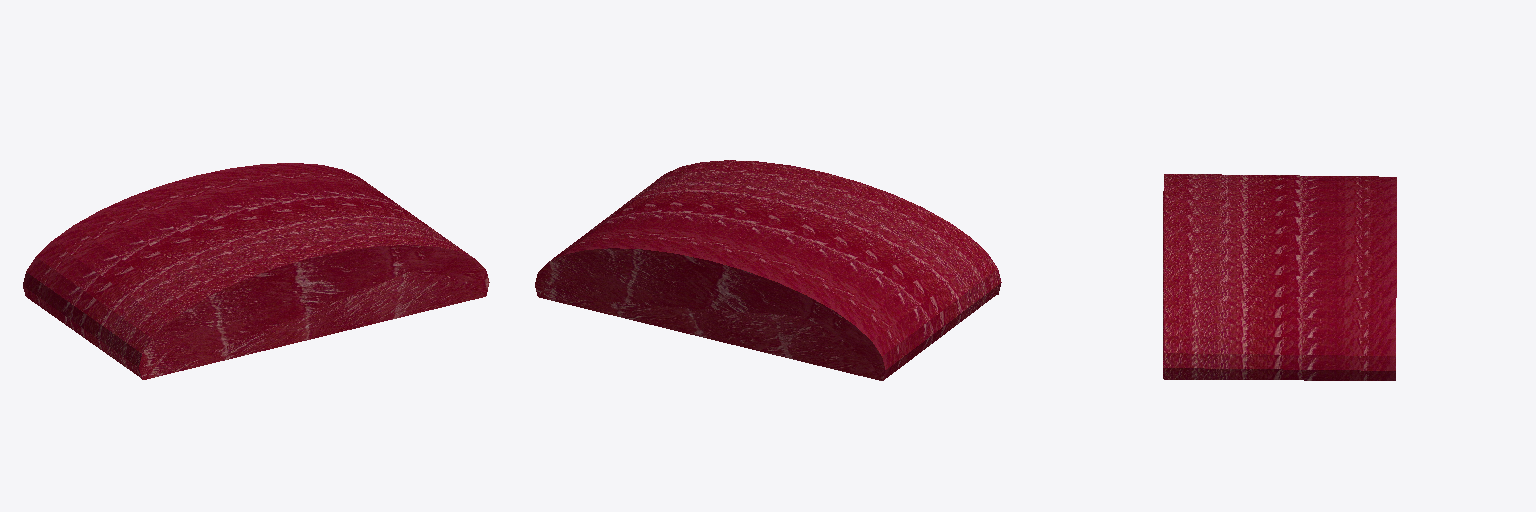
3 views of the same model, side by side, from view 1: azimuth 30°, elevation 25°; view 2: azimuth 150°, elevation 25°; view 3: azimuth 270°, elevation 25° (orthographic).
Parts seen in each view (by area): view 1: Cylinder; view 2: Cylinder; view 3: Cylinder.
Boxes of the visible parts, x1,y1,x2,y2 form: Cylinder: [23, 163, 489, 379]; Cylinder: [535, 160, 1001, 380]; Cylinder: [1163, 174, 1396, 380].
Bounding box in the file's own units: 0.4243 × 0.0948 × 0.2447.
Materials: 1 (1 with a texture image).